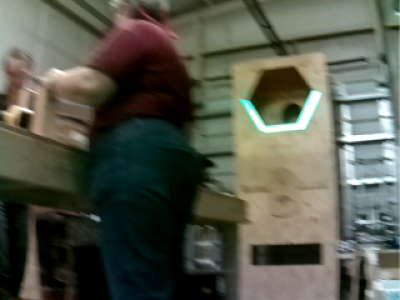target: (240, 90, 324, 132)
